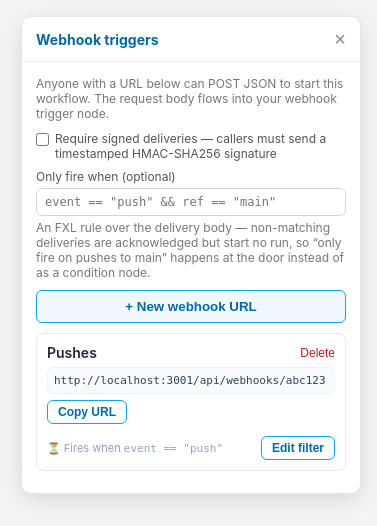
it: WebhookPanel gate expressions › edits an existing filter through PUT without touching the key
Step 1. Click the button "Edit filter" → x=298, y=448, box top-left (261, 436), bottom-right (335, 460)
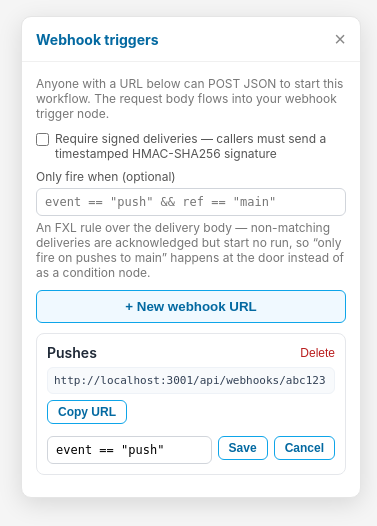
Expected: the field named "Gate expression" holds "event == \"push\""
Step 2. Type "event == \"release\"" into the field named "Gate expression" → x=129, y=450, box top-left (47, 436), bottom-right (212, 464)
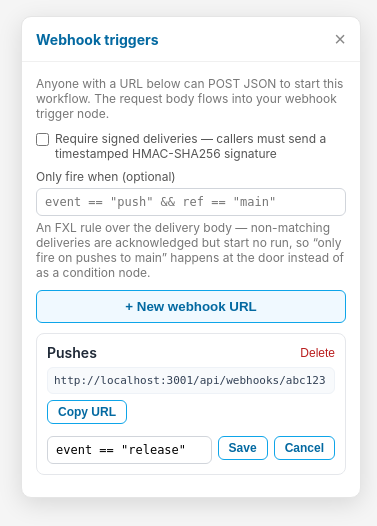
Step 3. Click the button "Save" → x=243, y=448, box top-left (218, 436), bottom-right (268, 460)
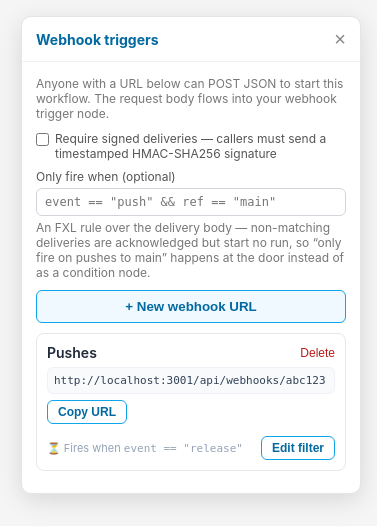
Expected: the text "event == \"release\"" is shown, top-left (124, 442), bottom-right (243, 455)
